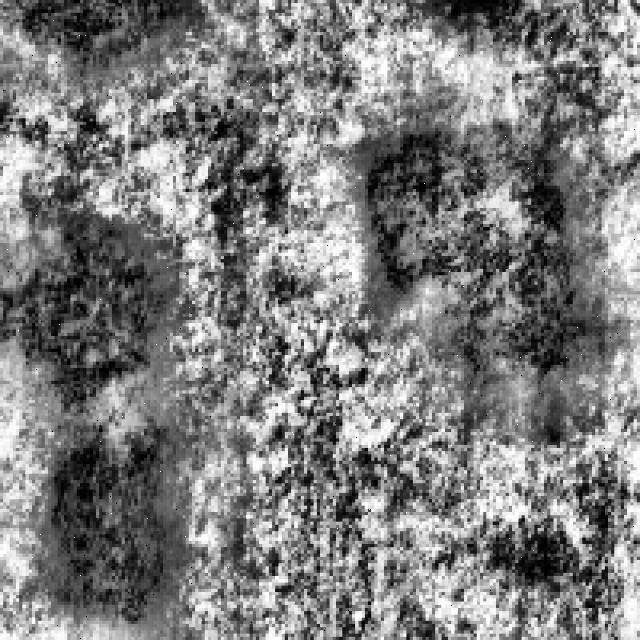Scratches: (352, 111, 595, 422), (0, 208, 170, 614), (0, 0, 192, 80)
